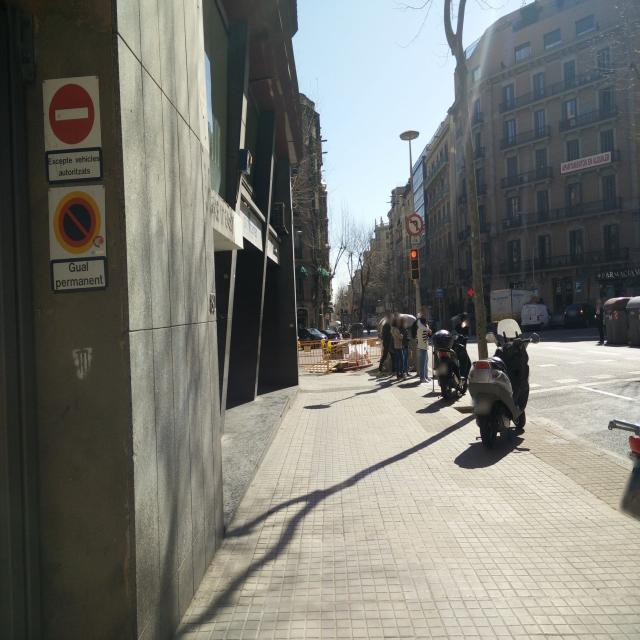bike: (470, 317, 534, 449), (431, 320, 474, 403)
car: (296, 324, 332, 350), (520, 302, 550, 330), (563, 302, 594, 327)
